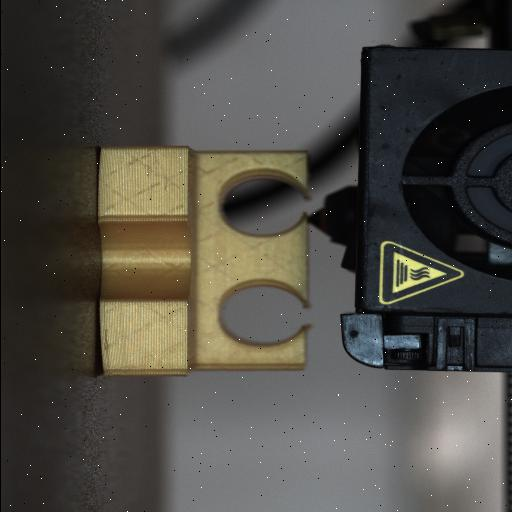warp: (86, 296, 114, 382), (92, 146, 106, 172)
